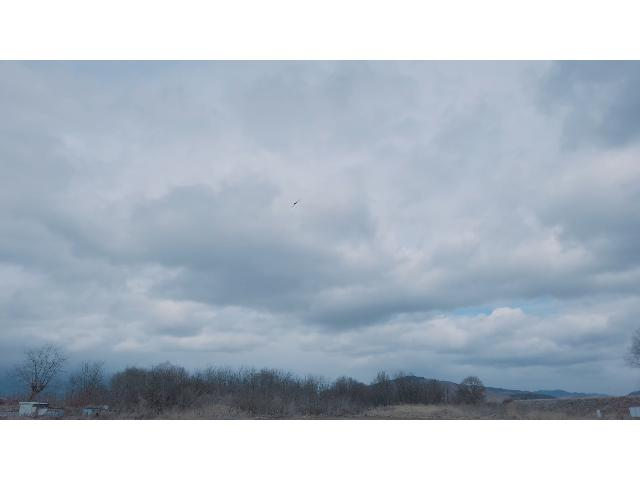Anti-Drone: (288, 196, 302, 209)
